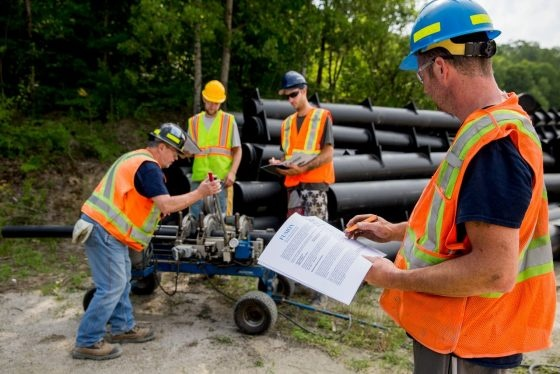blue: (402, 1, 506, 112), (148, 121, 186, 168), (278, 70, 312, 110)
yellow: (201, 79, 225, 117)
